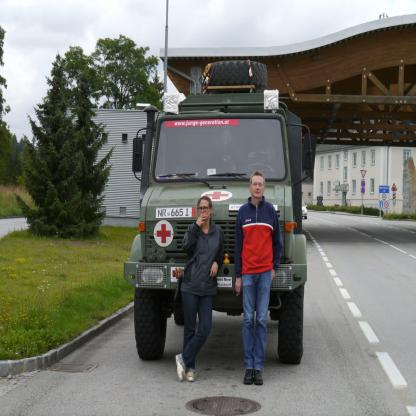Car: (302, 198, 308, 220)
